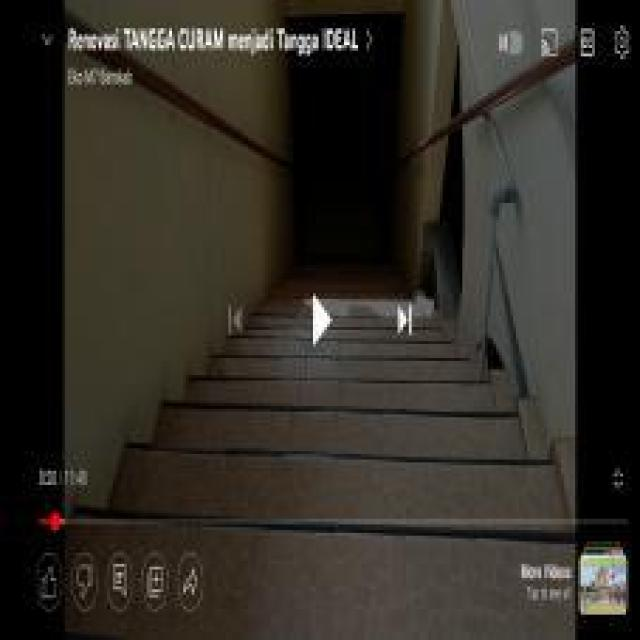downstair: (114, 334, 565, 525)
